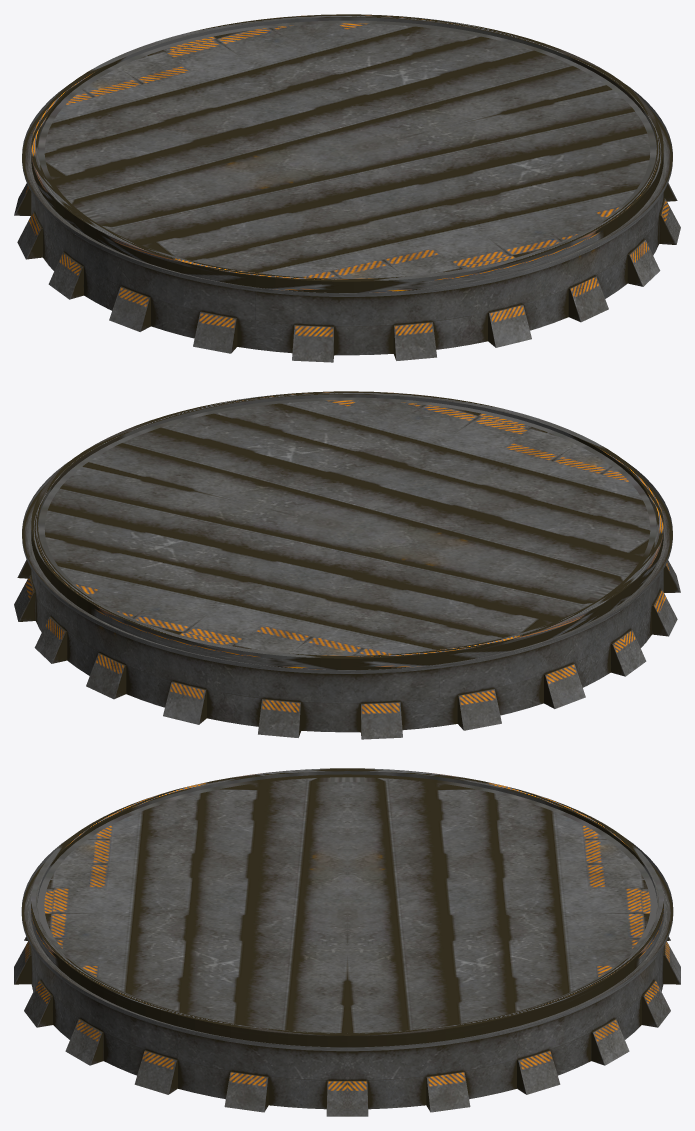
The picture shows the model from 3 angles, top to bottom: view 1: azimuth 30°, elevation 25°; view 2: azimuth 150°, elevation 25°; view 3: azimuth 270°, elevation 25°; orthographic projection.
Parts seen in each view (by area): view 1: badan, biroon; view 2: badan, biroon; view 3: badan, biroon.
Part boxes in pixels (box(x1,y1,x2,y2)): badan: box(31, 14, 663, 292); biroon: box(14, 83, 680, 362); badan: box(31, 391, 663, 669); biroon: box(14, 460, 680, 739); badan: box(31, 768, 663, 1047); biroon: box(14, 838, 680, 1116).
Size of the model in its own units: 297 by 36.16 by 297.
